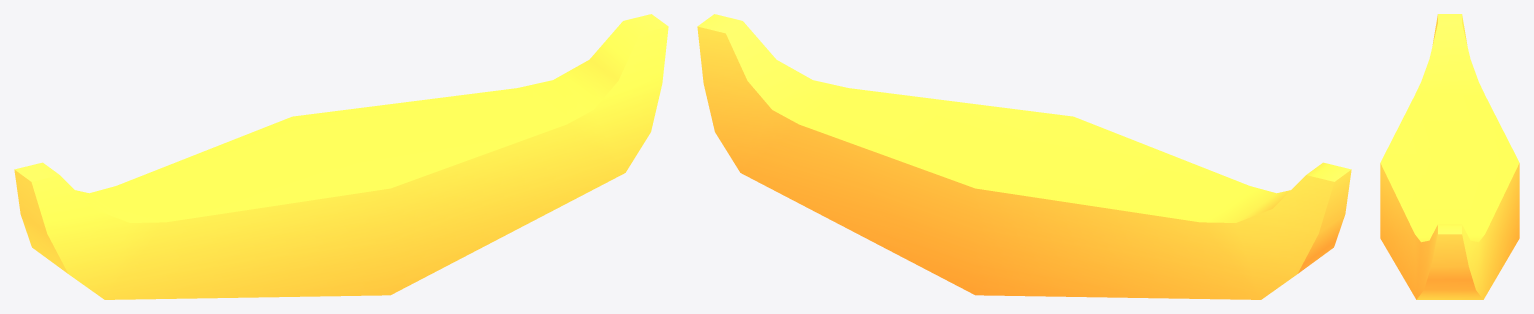
Rendered from gold_and_steel_guard_033.glb.
The picture shows the model from 3 angles, left to right: view 1: azimuth 30°, elevation 25°; view 2: azimuth 150°, elevation 25°; view 3: azimuth 270°, elevation 25°; orthographic projection. The views are drawn at different scales.
Visible parts, largest first — view 1: gold_and_steel_guard_033; view 2: gold_and_steel_guard_033; view 3: gold_and_steel_guard_033.
Boxes of the visible parts, left/top/right/bottom form: gold_and_steel_guard_033: left=14, top=14, right=668, bottom=299; gold_and_steel_guard_033: left=697, top=14, right=1351, bottom=299; gold_and_steel_guard_033: left=1380, top=14, right=1519, bottom=299.
Size of the model in its own units: 7.36 by 1.78 by 1.97.
1 material, 1 textured.
